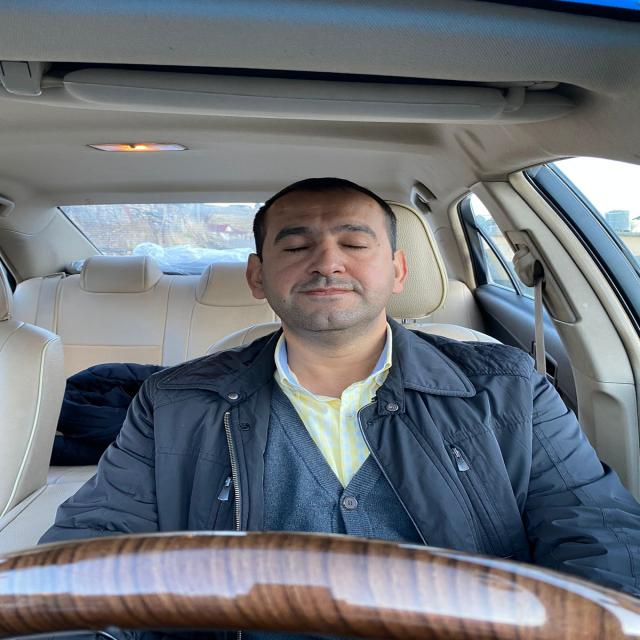drowsy: (235, 171, 416, 341)
